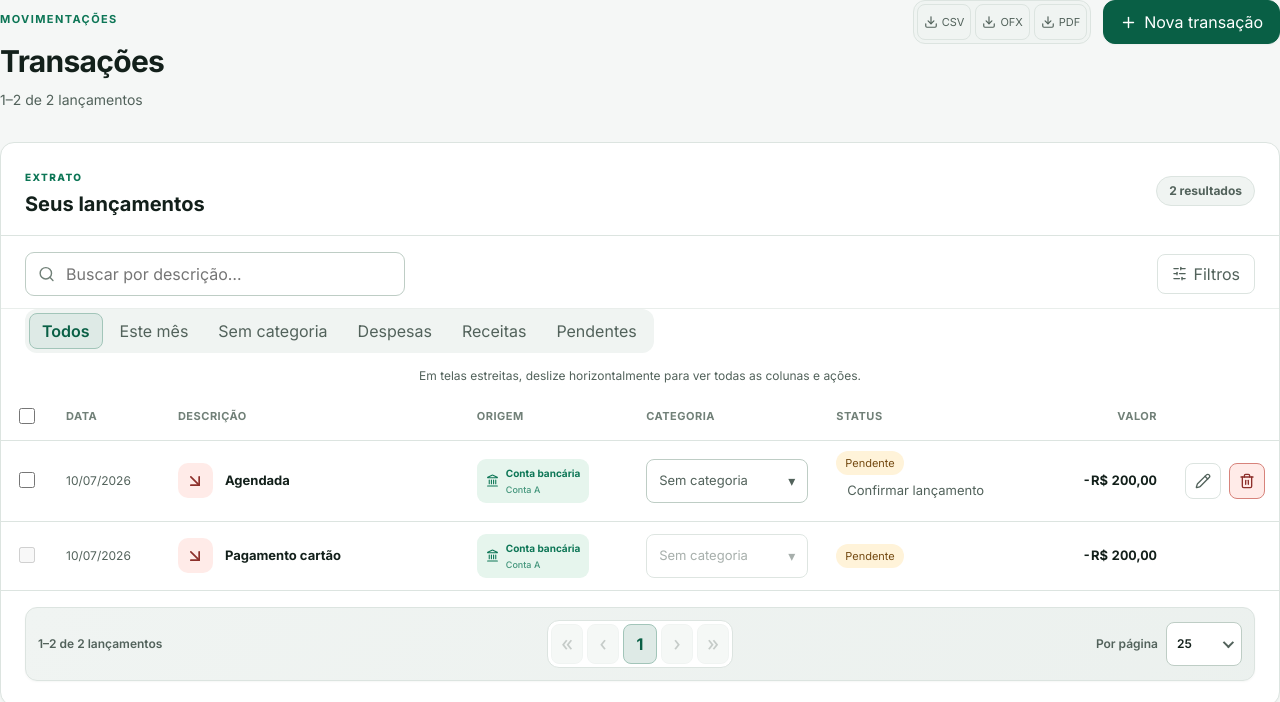
Scenario: Transactions protected mutations › locks pending confirmation and undo, and hides impossible actions for protected card payments
Click the button "Confirmar lançamento": [916, 490] box [836,472,995,508]
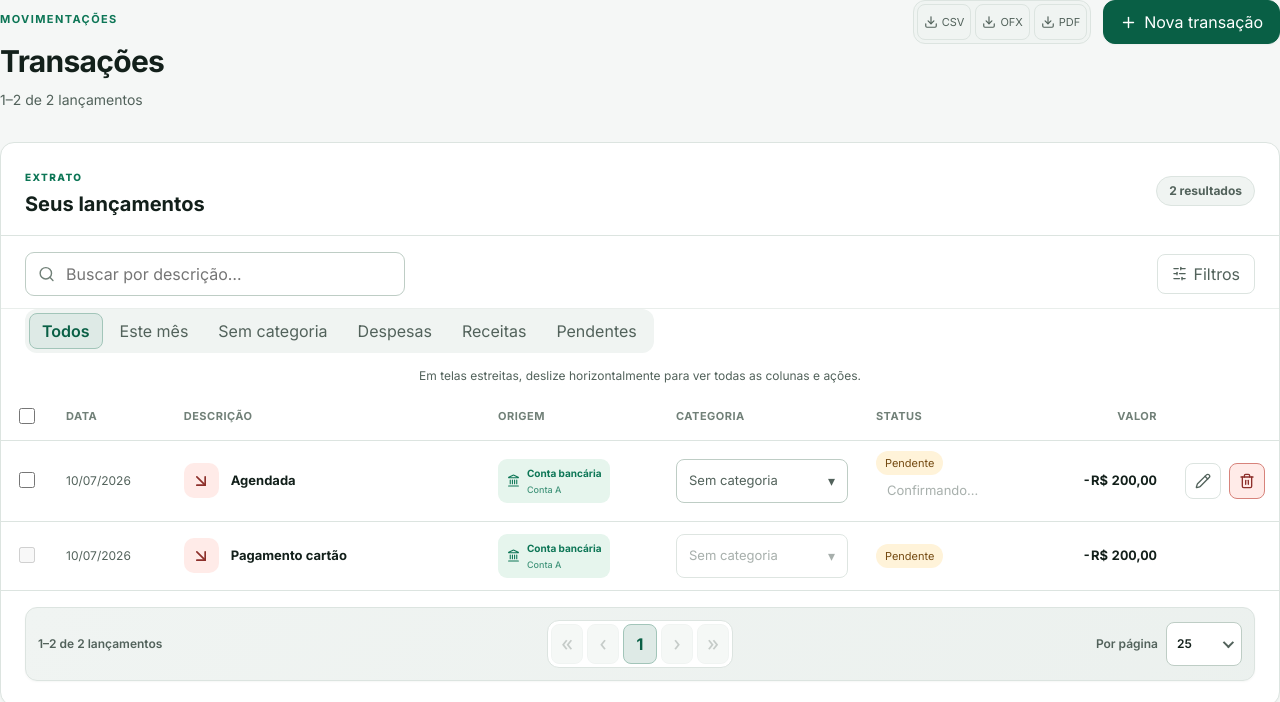
Click the button named "Confirmar lançamento": [933, 490] box [876,472,989,508]
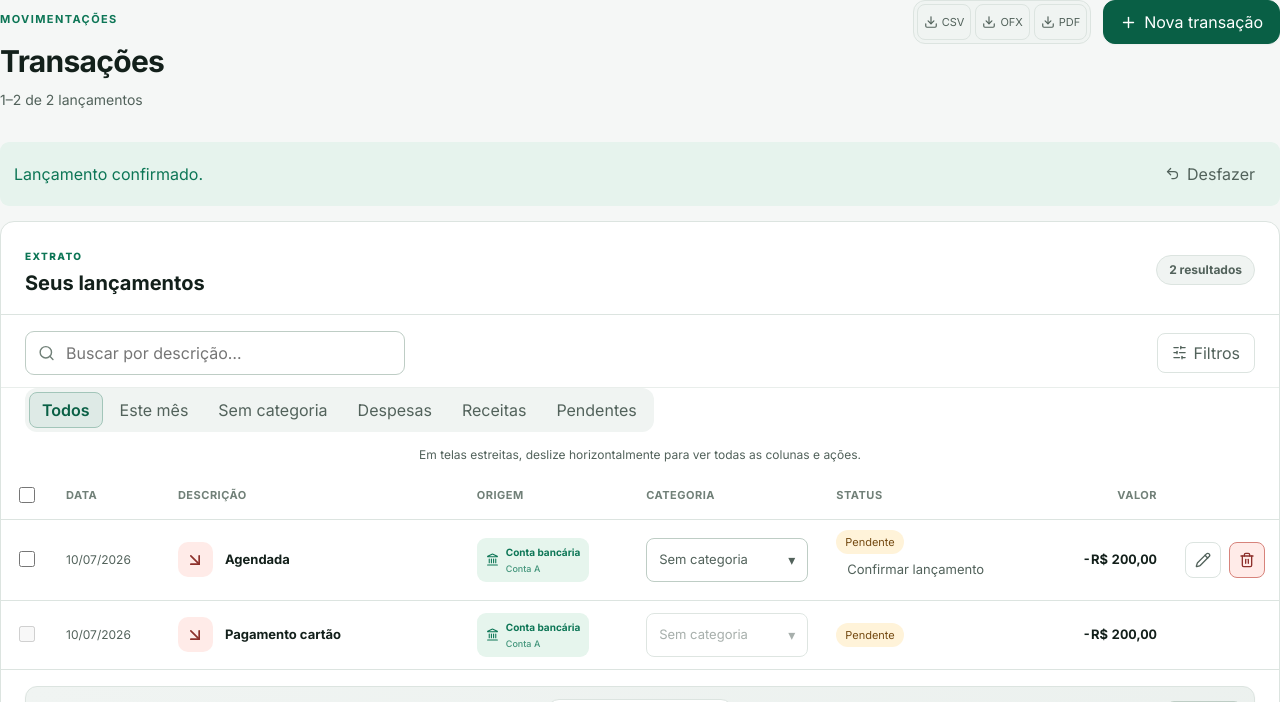
Expected: the checkbox named "Selecionar Pagamento cartão" is disabled, [19,626,35,642]
Result: the button "Desfazer" is shown at [1154,156,1266,192]
Result: the number of buttons "Confirmar lançamento" is 1 at [836,552,995,588]
